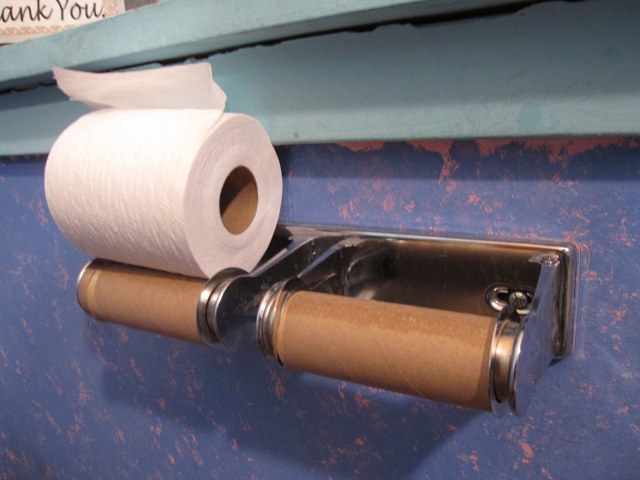toilet_paper: (45, 62, 282, 279)
